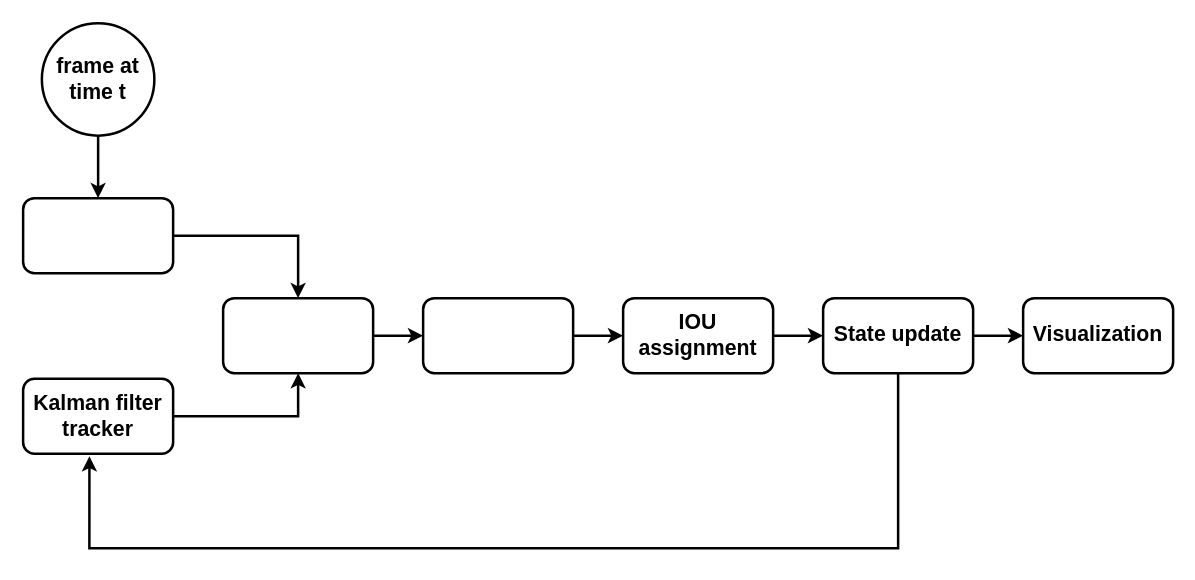
This 1195x580 diagram has some shape labels left out. The centre of each missing label's shape, as x and y in pixels:
Matching Cascade: the point at 497,335
Tentative Confirmation: the point at 297,335
YOLO detector: the point at 97,235
